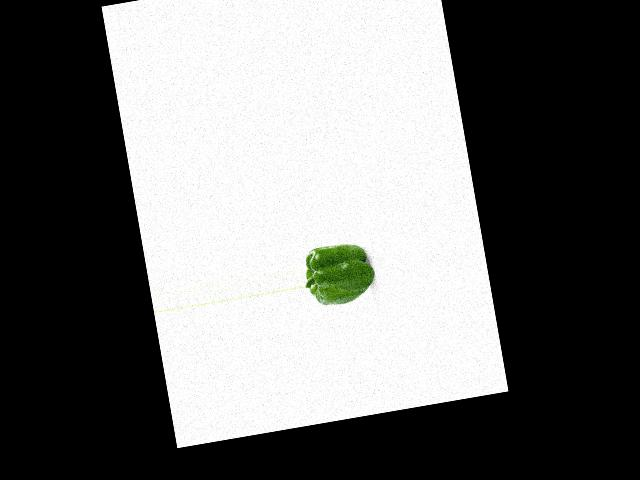bell_pepper: (300, 238, 376, 310)
